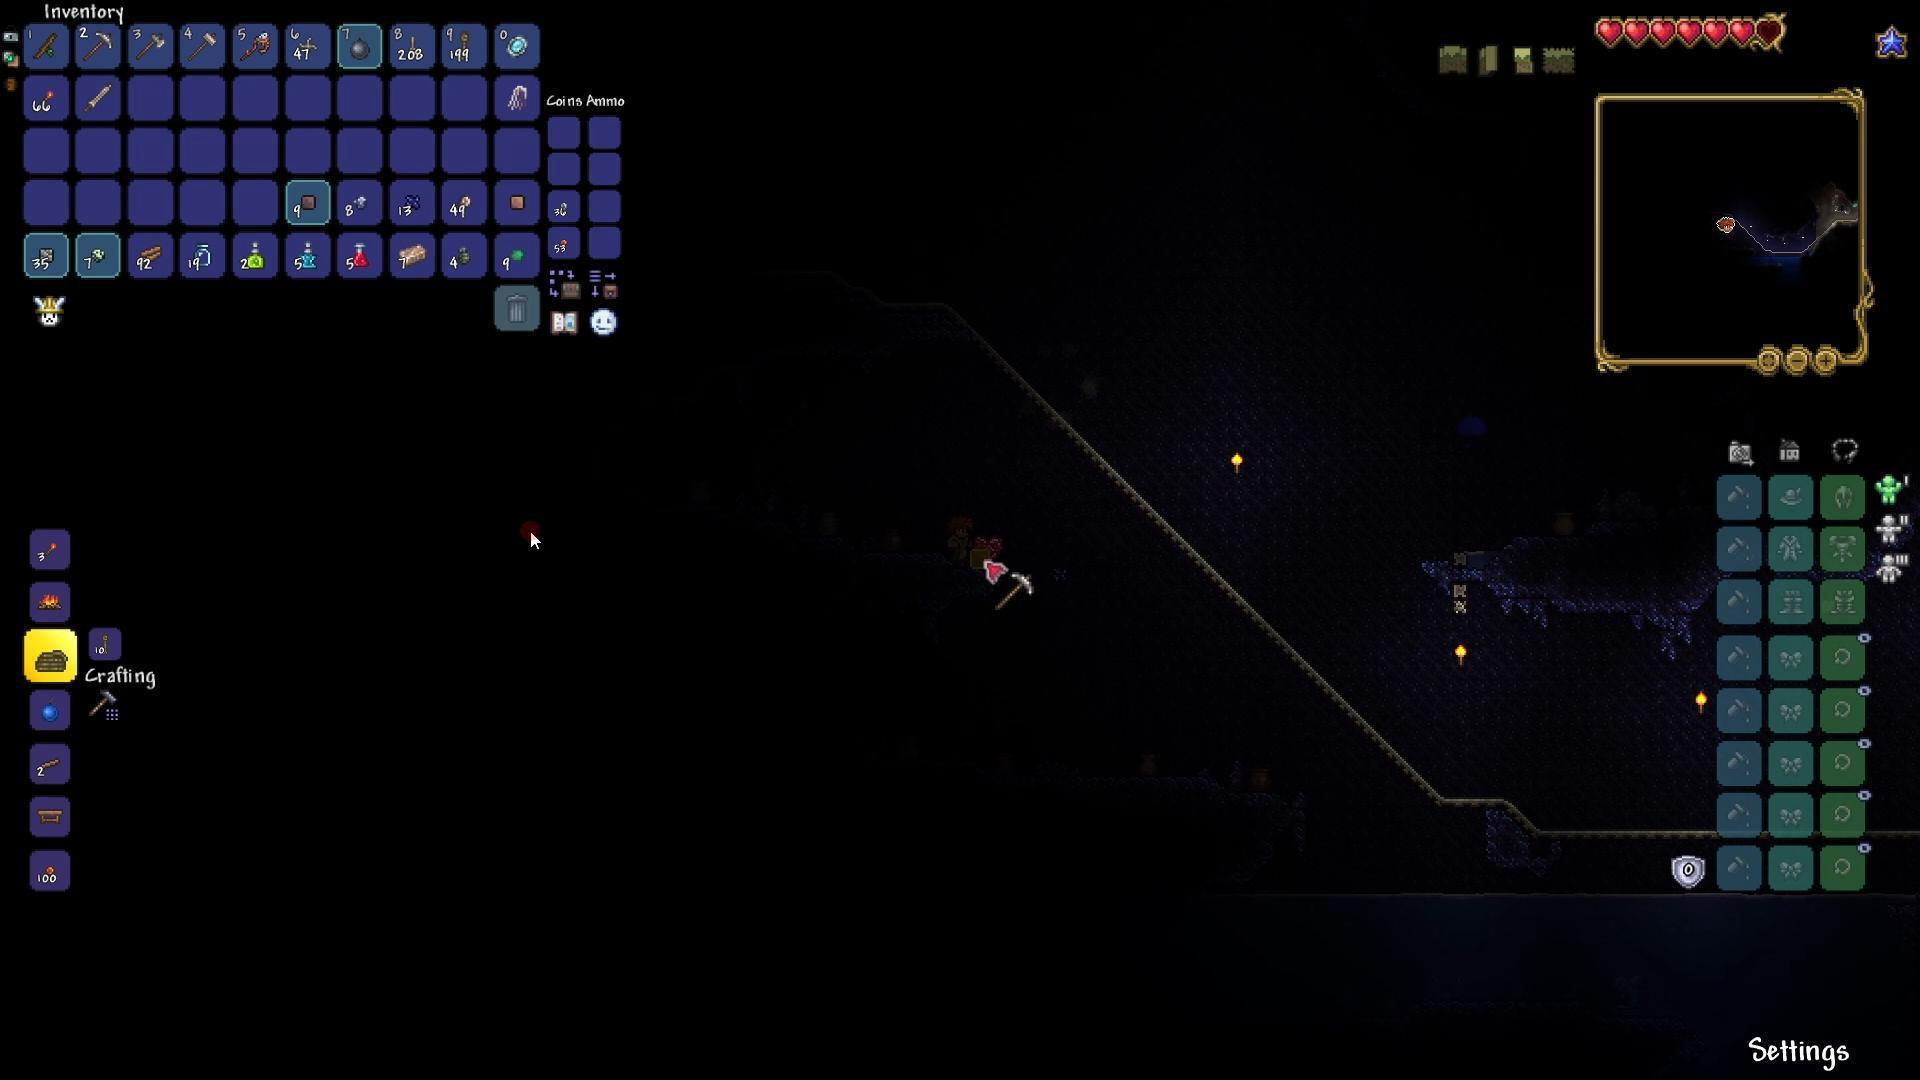axe: (136, 32, 165, 58)
bomb: (348, 36, 371, 62)
wood: (138, 243, 165, 262)
workbench: (36, 807, 65, 825)
